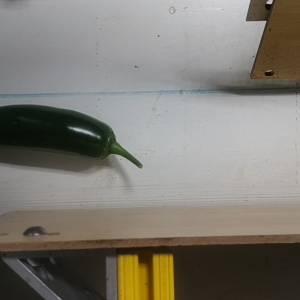Cut Point: (91, 120, 124, 164)
